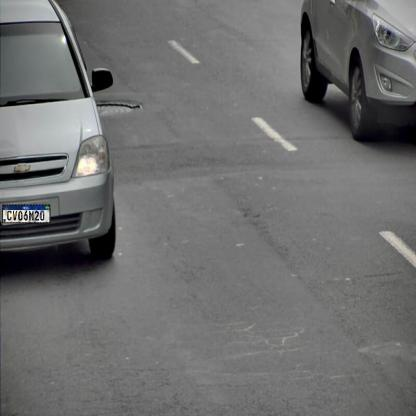PlacaM: (2, 205, 51, 223)
